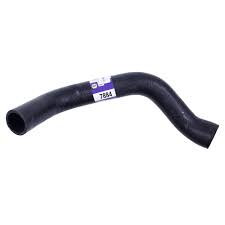radiator_hose: (7, 72, 217, 148)
